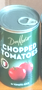tomatoes: (1, 4, 41, 89)
